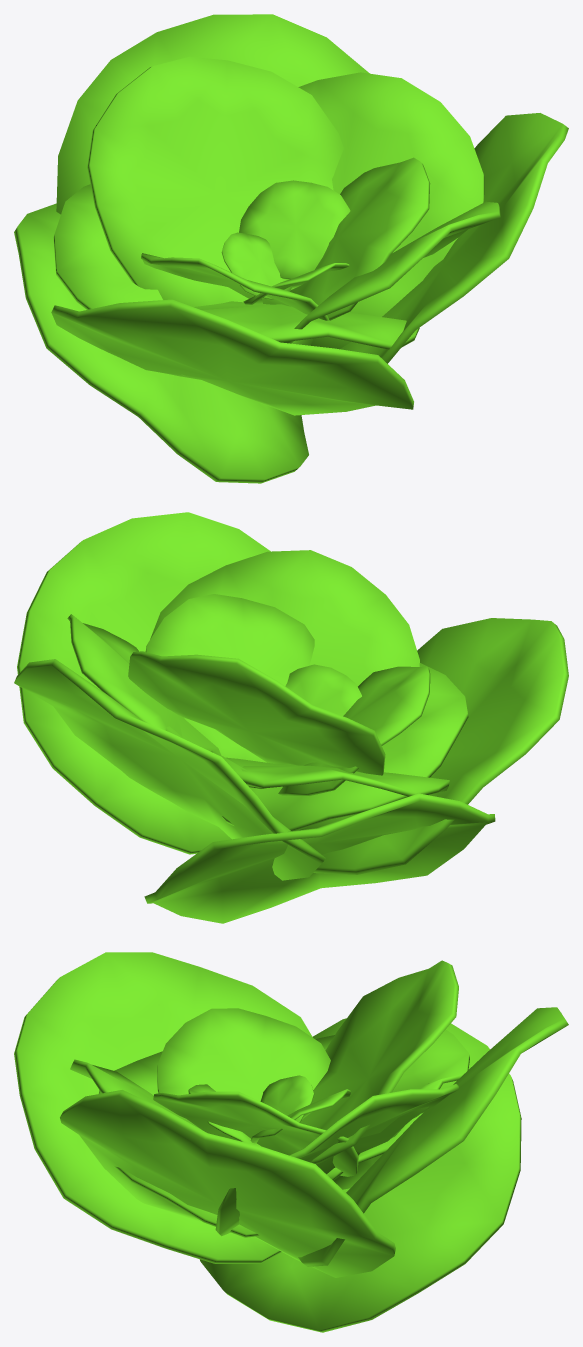
File: Lettuce.fbx
3 renders of one model, top to bottom at view 1: azimuth 30°, elevation 25°; view 2: azimuth 150°, elevation 25°; view 3: azimuth 270°, elevation 25°, orthographic. The views are drawn at different scales.
Parts seen in each view (by area): view 1: Circle.006; view 2: Circle.006; view 3: Circle.006.
Boxes of the visible parts, bbox=[...] form: Circle.006: bbox=[14, 14, 568, 483]; Circle.006: bbox=[14, 512, 568, 923]; Circle.006: bbox=[14, 952, 568, 1332].
Size of the model in its own units: 28.89 by 18.87 by 28.58.
